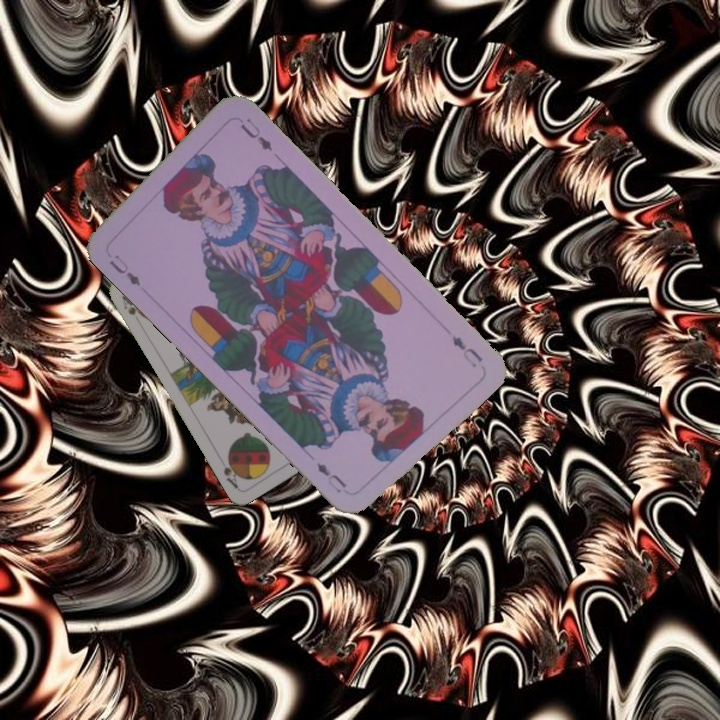EU: (105, 250, 143, 289), (447, 332, 486, 370)
SA: (118, 292, 147, 329)
